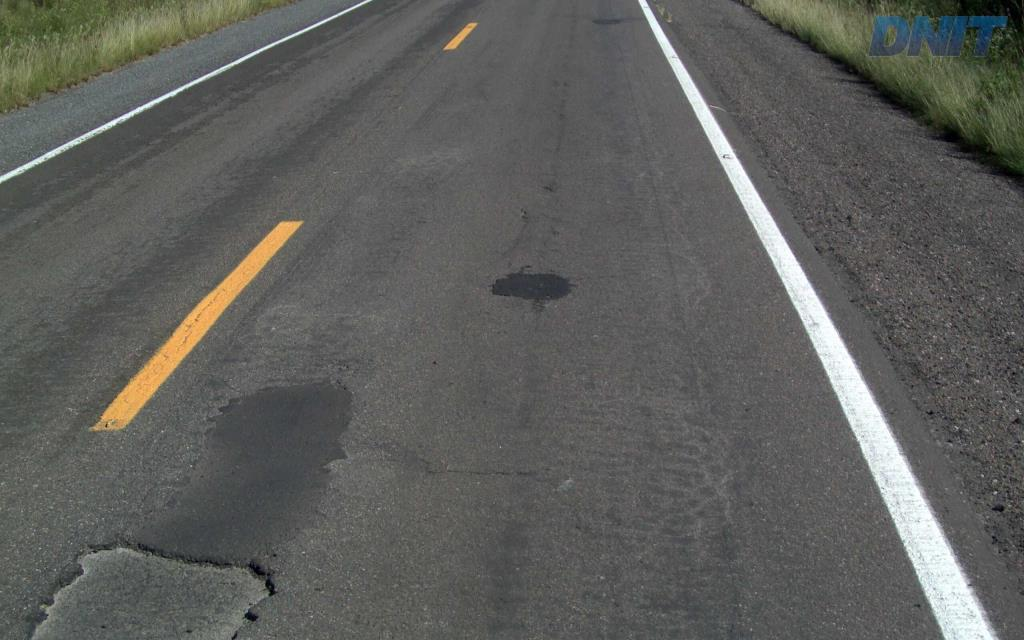pothole: (16, 535, 287, 638)
